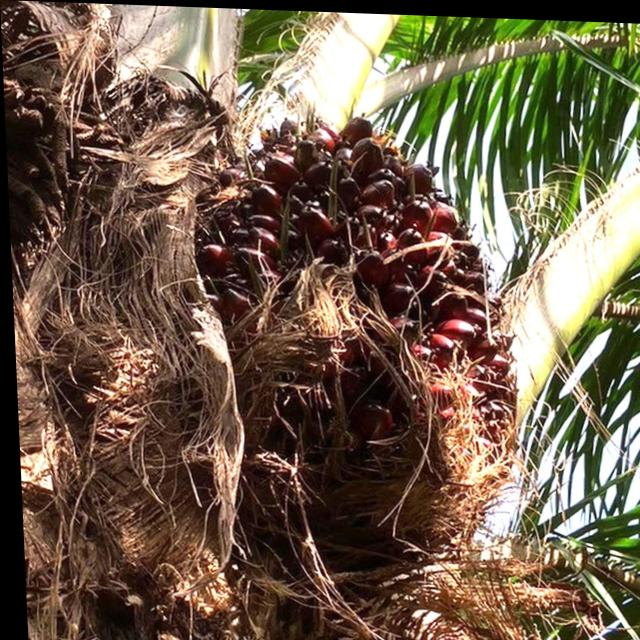ripe: (139, 85, 542, 594)
